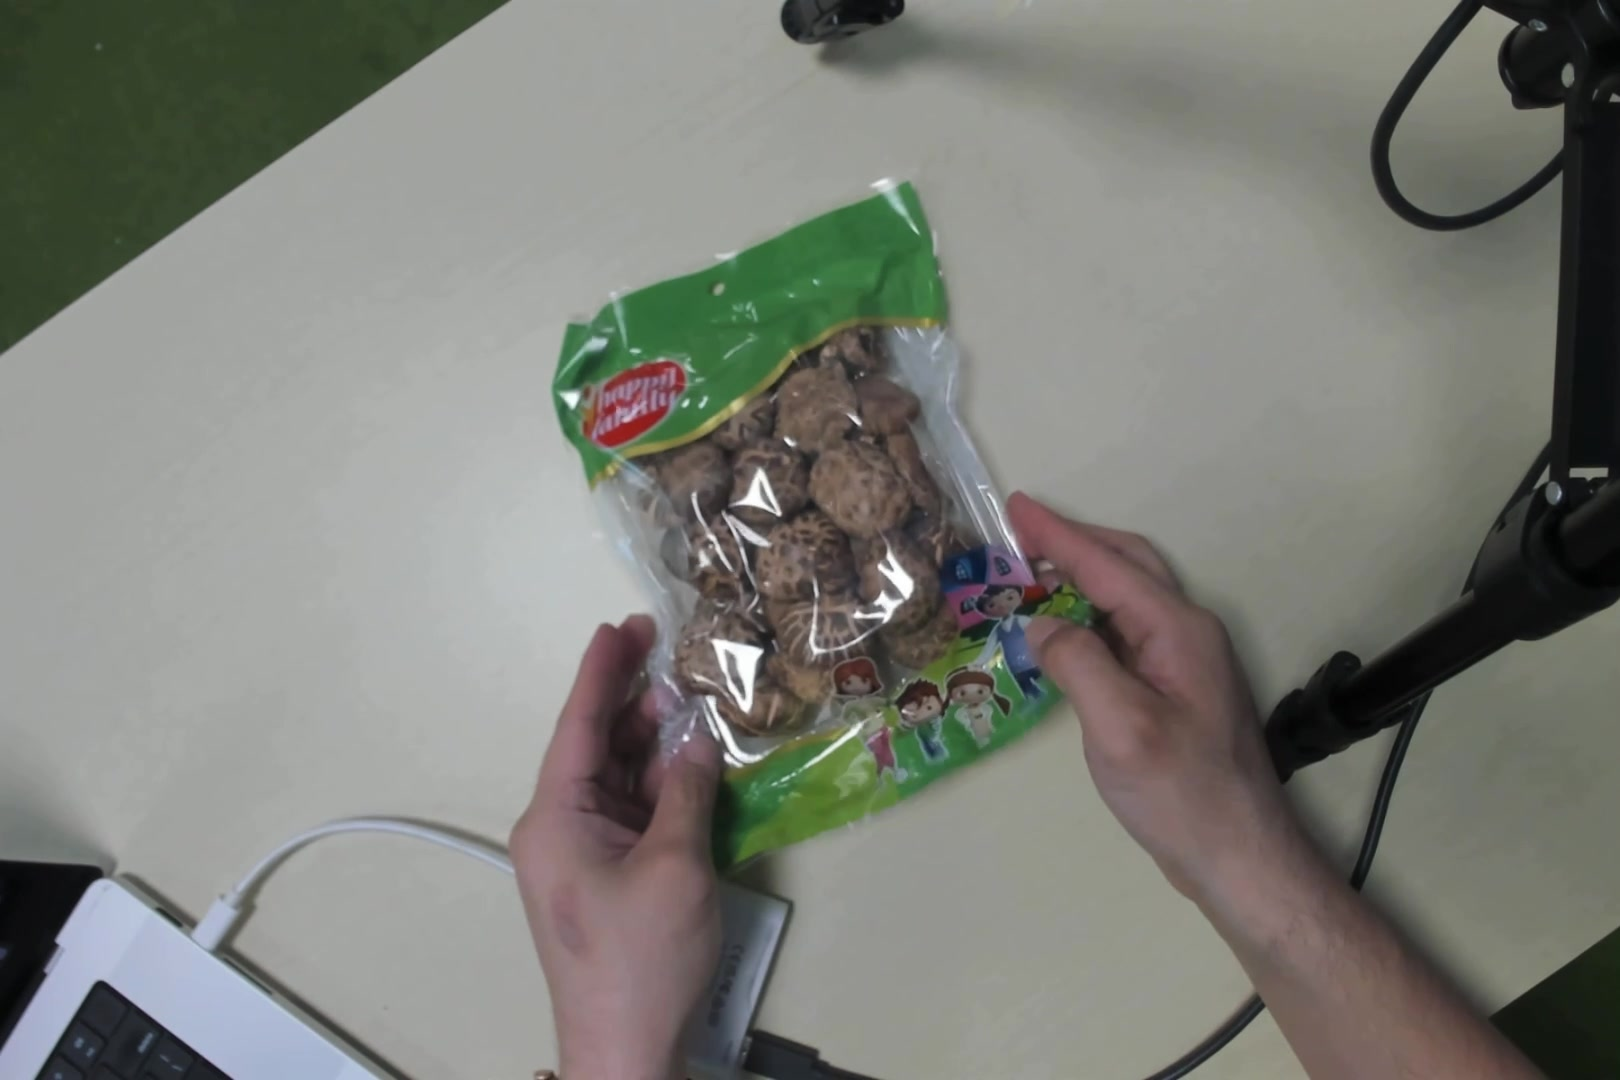OtherDriedFood_100-199g_NonHalal_NonHealthy: (588, 229, 997, 777)
